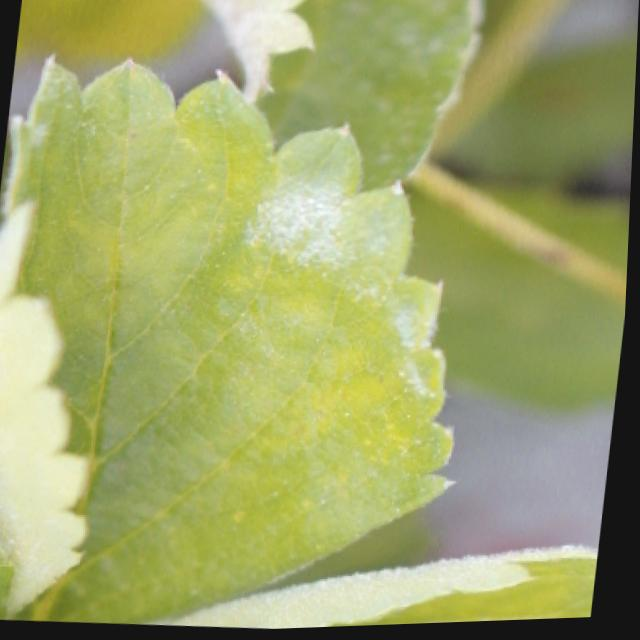Powdery Mildew Leaf: (0, 44, 463, 626), (199, 0, 487, 192), (154, 545, 603, 631)
